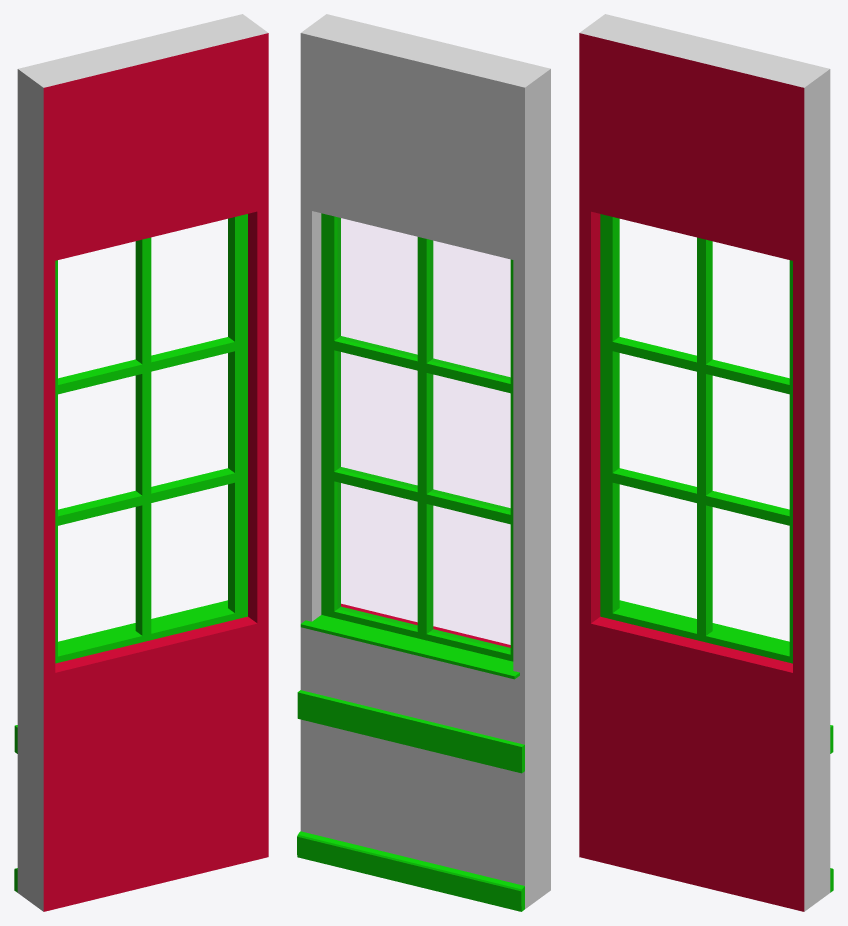
Rendered from FensterTief.glb.
3 views of the same model, side by side, from view 1: azimuth 30°, elevation 25°; view 2: azimuth 150°, elevation 25°; view 3: azimuth 330°, elevation 25° (orthographic).
Parts seen in each view (by area): view 1: Mesh; view 2: Mesh; view 3: Mesh.
Boxes of the visible parts, box(x1,y1,x2,y2) form: Mesh: box(14, 14, 268, 911); Mesh: box(297, 14, 550, 911); Mesh: box(579, 14, 833, 911).
Bounding box in the file's own units: 1 × 3.5 × 0.2403.
